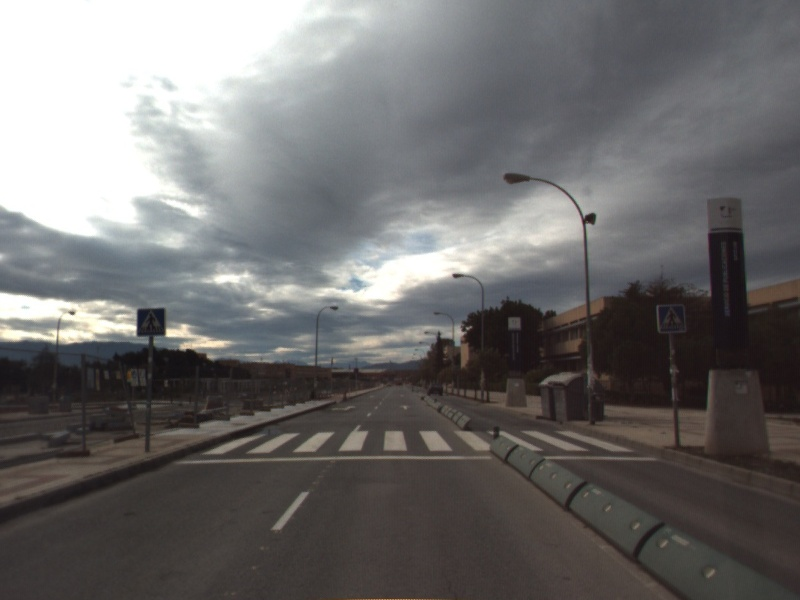STRAIGHT: (397, 403, 412, 411)
STRAIGHT_LEFT: (328, 404, 358, 413)
